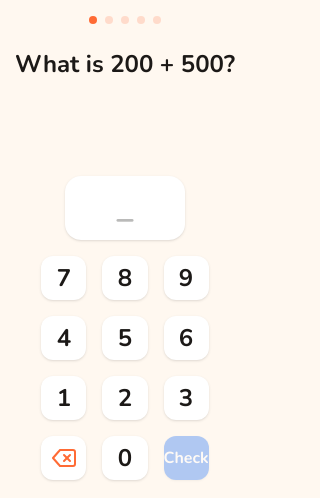
Scenario: PRAC-02: Digit-grid widget › Check Answer button enabled after composing a digit
The image size is (320, 498).
Click the button named "Digit 7".
click(64, 278)  # box left=41, top=256, right=86, bottom=300
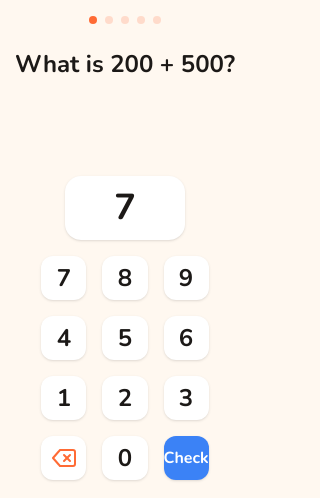
Now the button with aria-label "Check my answer" is enabled, box left=164, top=436, right=208, bottom=480
